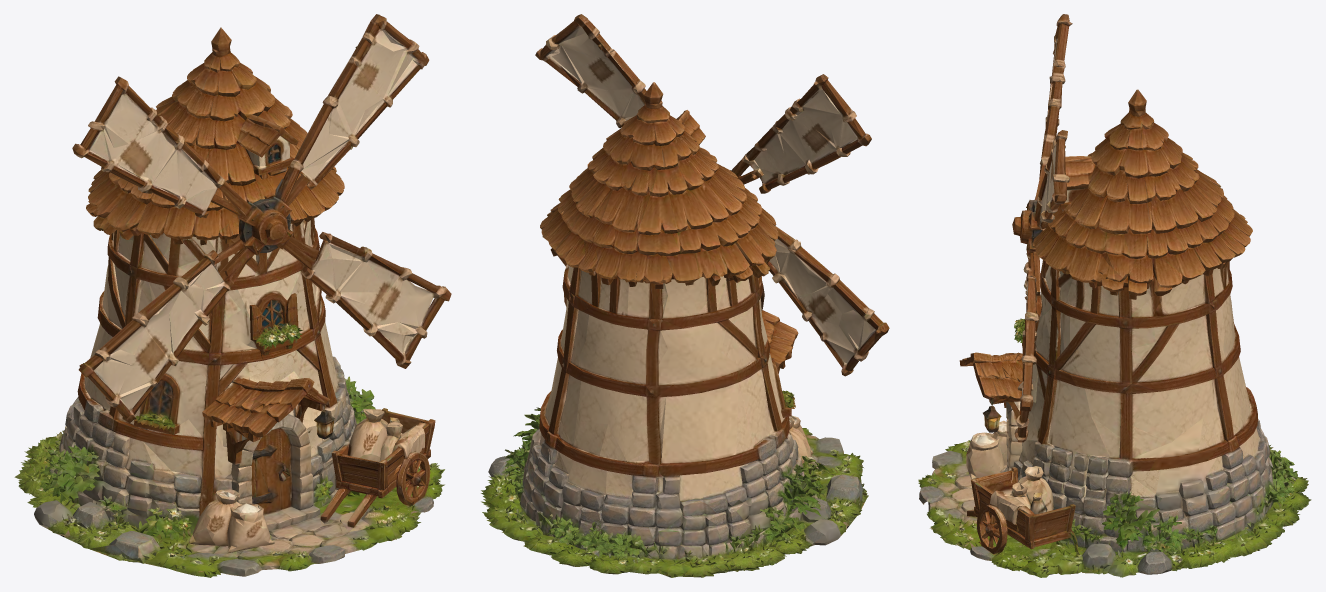
The model's file is bld_windmill.glb.
The picture shows the model from 3 angles, left to right: view 1: azimuth 30°, elevation 25°; view 2: azimuth 150°, elevation 25°; view 3: azimuth 270°, elevation 25°; orthographic projection. The views are drawn at different scales.
Parts seen in each view (by area): view 1: output_unwrapped; view 2: output_unwrapped; view 3: output_unwrapped.
Boxes of the visible parts, box(x1,y1,x2,y2) form: output_unwrapped: box(14, 14, 451, 577); output_unwrapped: box(481, 14, 889, 577); output_unwrapped: box(918, 14, 1311, 577).
Bounding box in the file's own units: 1.59 × 1.9 × 1.6.
1 material, 1 textured.
